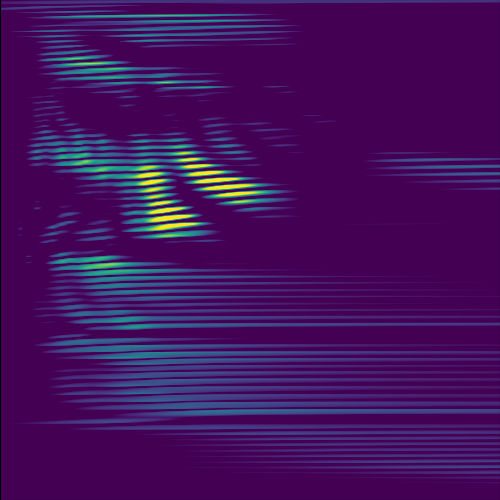semblance: (134, 156, 210, 241), (48, 47, 148, 90)
